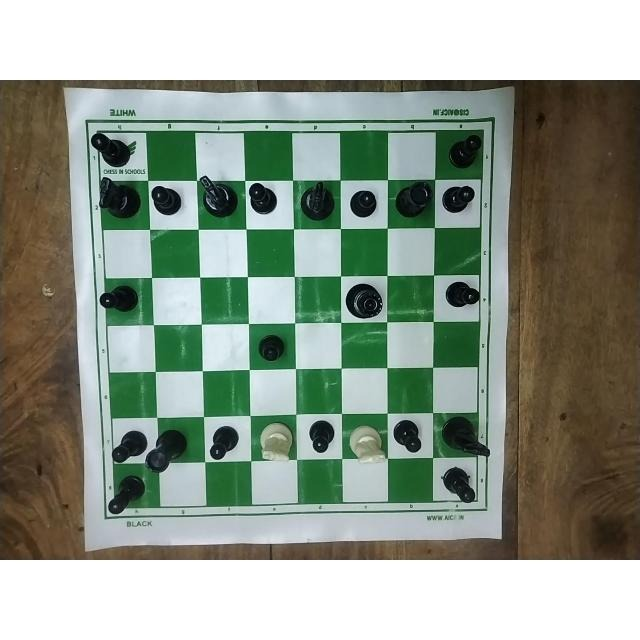black-knight: (439, 415, 490, 459), (96, 177, 144, 221), (298, 179, 338, 224), (198, 174, 240, 216)
black-pawn: (89, 128, 139, 167), (105, 473, 146, 515), (442, 132, 482, 172), (109, 424, 147, 466), (441, 465, 477, 509), (99, 283, 141, 319), (203, 422, 240, 459), (147, 182, 182, 220), (440, 276, 480, 309), (391, 415, 425, 453), (440, 181, 476, 214), (249, 179, 279, 217), (351, 187, 383, 221), (308, 420, 336, 456), (256, 331, 286, 363)
black-queen: (343, 277, 389, 322)
black-rook: (145, 424, 191, 474), (393, 180, 433, 220)
white-knight: (255, 420, 299, 466), (350, 424, 390, 468)
